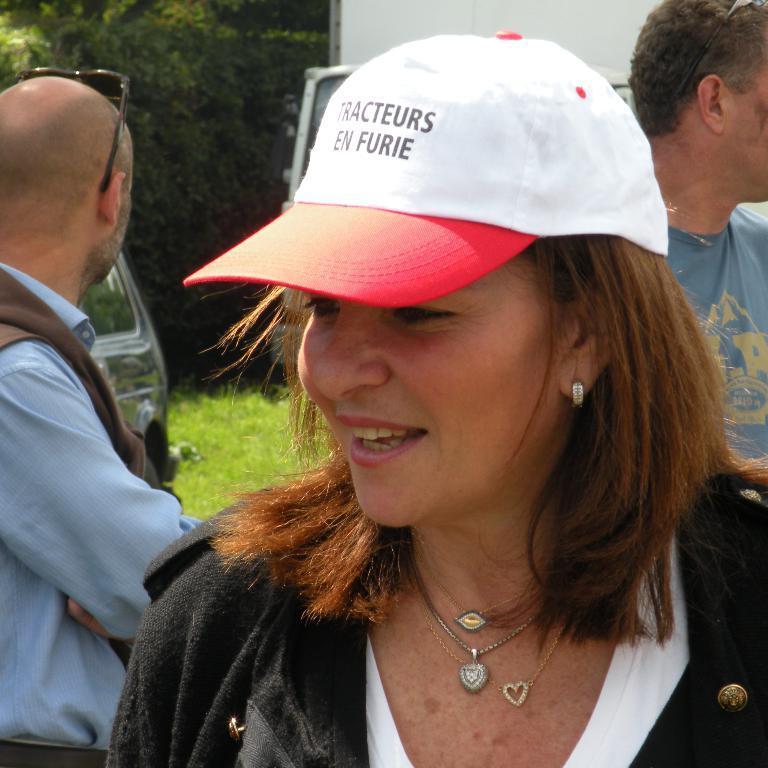Hat: (182, 26, 670, 310)
